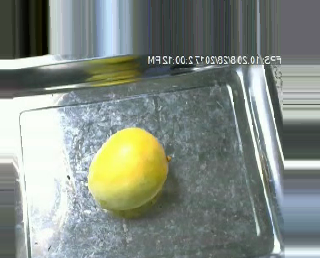Mango: (85, 122, 175, 215)
